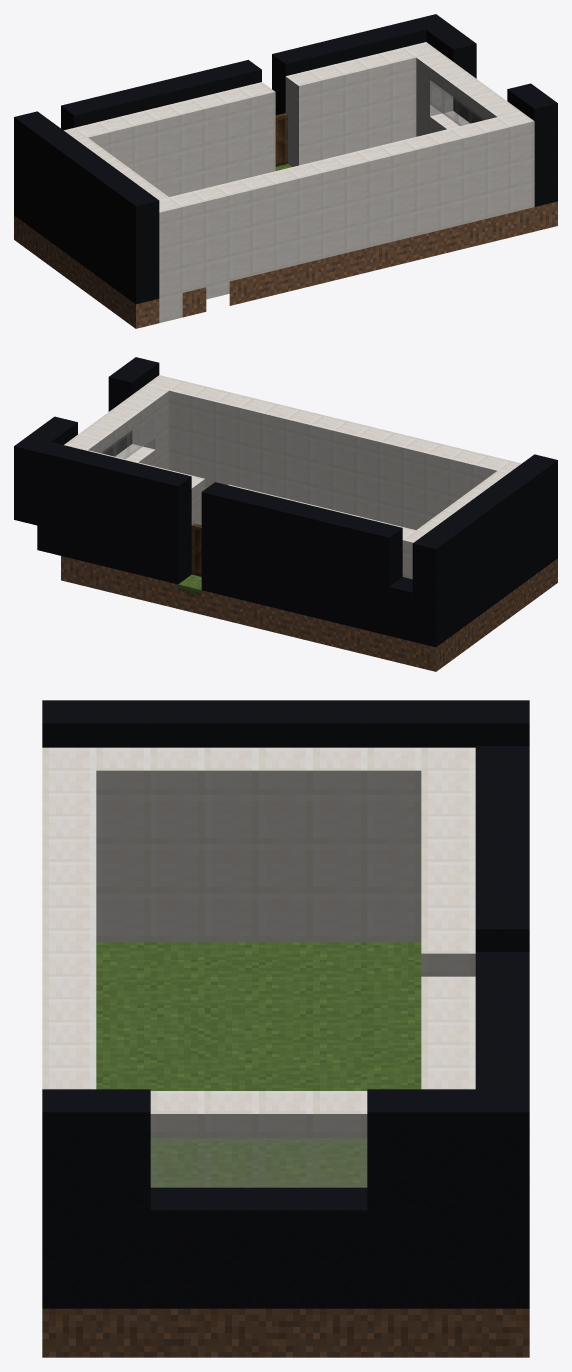
File: Maquete_Miguel Lorenzo Massaro Sampaio Silva.glb
3 renders of one model, top to bottom at view 1: azimuth 30°, elevation 25°; view 2: azimuth 150°, elevation 25°; view 3: azimuth 270°, elevation 25°, orthographic. The views are drawn at different scales.
Visible parts, largest first — view 1: node_1, node_4, node_6, node_5, node_2, node_3; view 2: node_4, node_1, node_6, node_5, node_2, node_3; view 3: node_4, node_6, node_1, node_2, node_5.
Boxes of the visible parts, <box> form: node_1: <box>193,93,557,305</box>; node_4: <box>85,14,543,196</box>; node_6: <box>14,100,168,318</box>; node_5: <box>122,190,206,328</box>; node_2: <box>430,80,483,125</box>; node_3: <box>275,113,287,166</box>; node_4: <box>14,367,392,654</box>; node_1: <box>122,357,487,529</box>; node_6: <box>365,464,544,671</box>; node_5: <box>474,454,557,592</box>; node_2: <box>102,413,155,459</box>; node_3: <box>191,523,201,576</box>; node_4: <box>96,769,529,1357</box>; node_6: <box>96,700,529,965</box>; node_1: <box>42,793,96,1357</box>; node_2: <box>150,1138,367,1187</box>; node_5: <box>42,700,96,793</box>.
Size of the model in its own units: 18 by 5 by 9.
3 materials, 3 textured.
